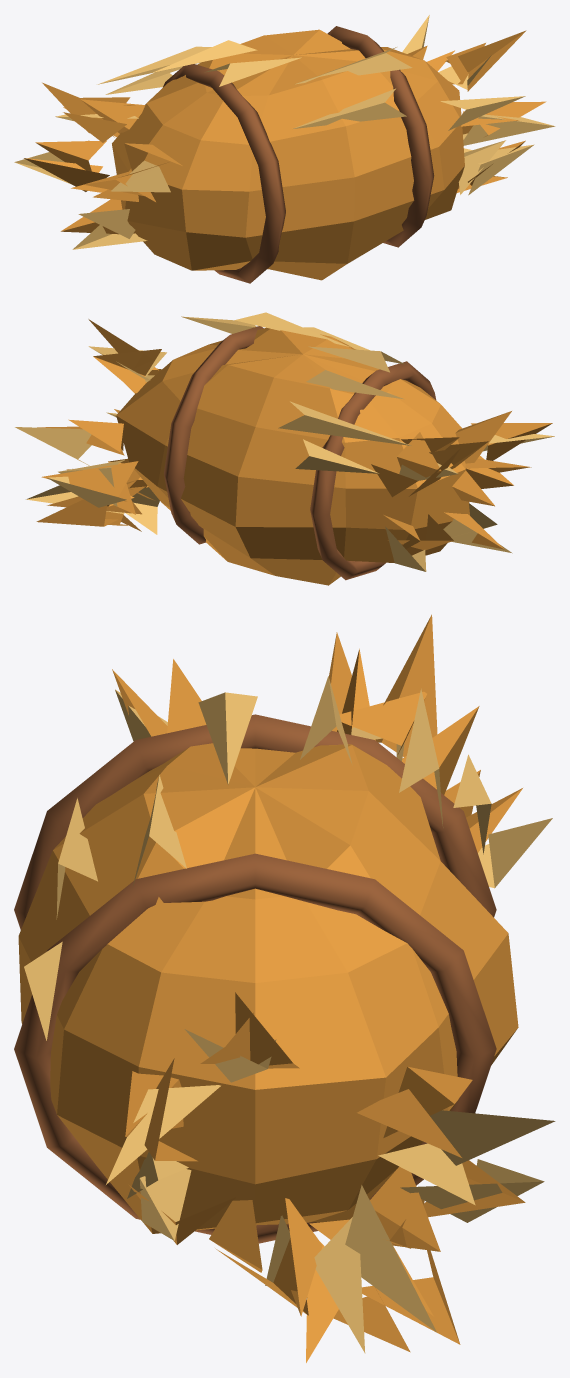
File: hay-carried.glb
3 views of the same model, one above another, from view 1: azimuth 30°, elevation 25°; view 2: azimuth 150°, elevation 25°; view 3: azimuth 270°, elevation 25° (orthographic). The views are drawn at different scales.
Parts seen in each view (by area): view 1: hay, straw_light, straw_gold, twine; view 2: hay, straw_gold, straw_light, twine; view 3: hay, twine, straw_light, straw_gold.
Boxes of the visible parts, x1,y1,x2,y2 form: hay: (112, 29, 464, 280); straw_light: (14, 15, 555, 249); straw_gold: (24, 30, 546, 234); twine: (163, 26, 434, 283); hay: (116, 327, 469, 585); straw_gold: (36, 319, 552, 550); straw_light: (15, 312, 554, 571); twine: (164, 326, 436, 580); hay: (18, 743, 518, 1233); twine: (14, 714, 496, 1243); straw_light: (24, 676, 555, 1353); straw_gold: (112, 614, 525, 1362).
Bounding box in the file's own units: 0.6769 × 0.312 × 0.362.
